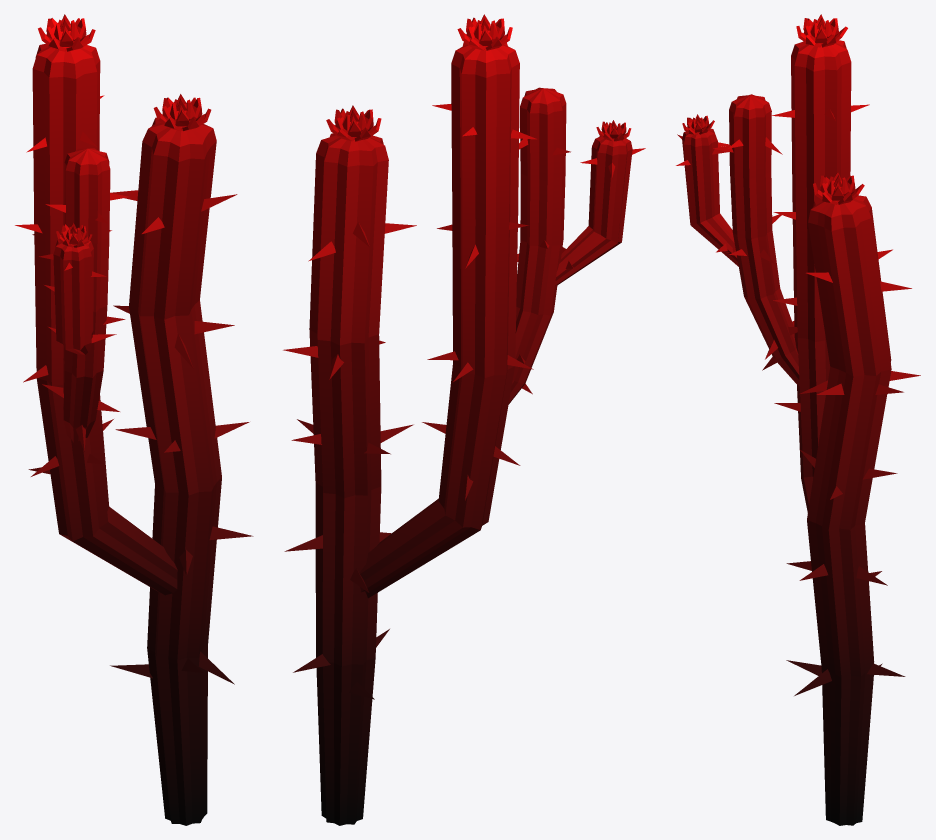
File: TreeCactusTall06.fbx
The picture shows the model from 3 angles, left to right: view 1: azimuth 30°, elevation 25°; view 2: azimuth 150°, elevation 25°; view 3: azimuth 270°, elevation 25°; orthographic projection. The views are drawn at different scales.
Parts seen in each view (by area): view 1: TreeCactusTall06_LOD0; view 2: TreeCactusTall06_LOD0; view 3: TreeCactusTall06_LOD0.
Boxes of the visible parts, x1,y1,x2,y2 form: TreeCactusTall06_LOD0: [15, 14, 253, 825]; TreeCactusTall06_LOD0: [283, 14, 645, 825]; TreeCactusTall06_LOD0: [676, 14, 920, 825].
Size of what is drawn, in the model's own units: 126 by 371 by 112.
